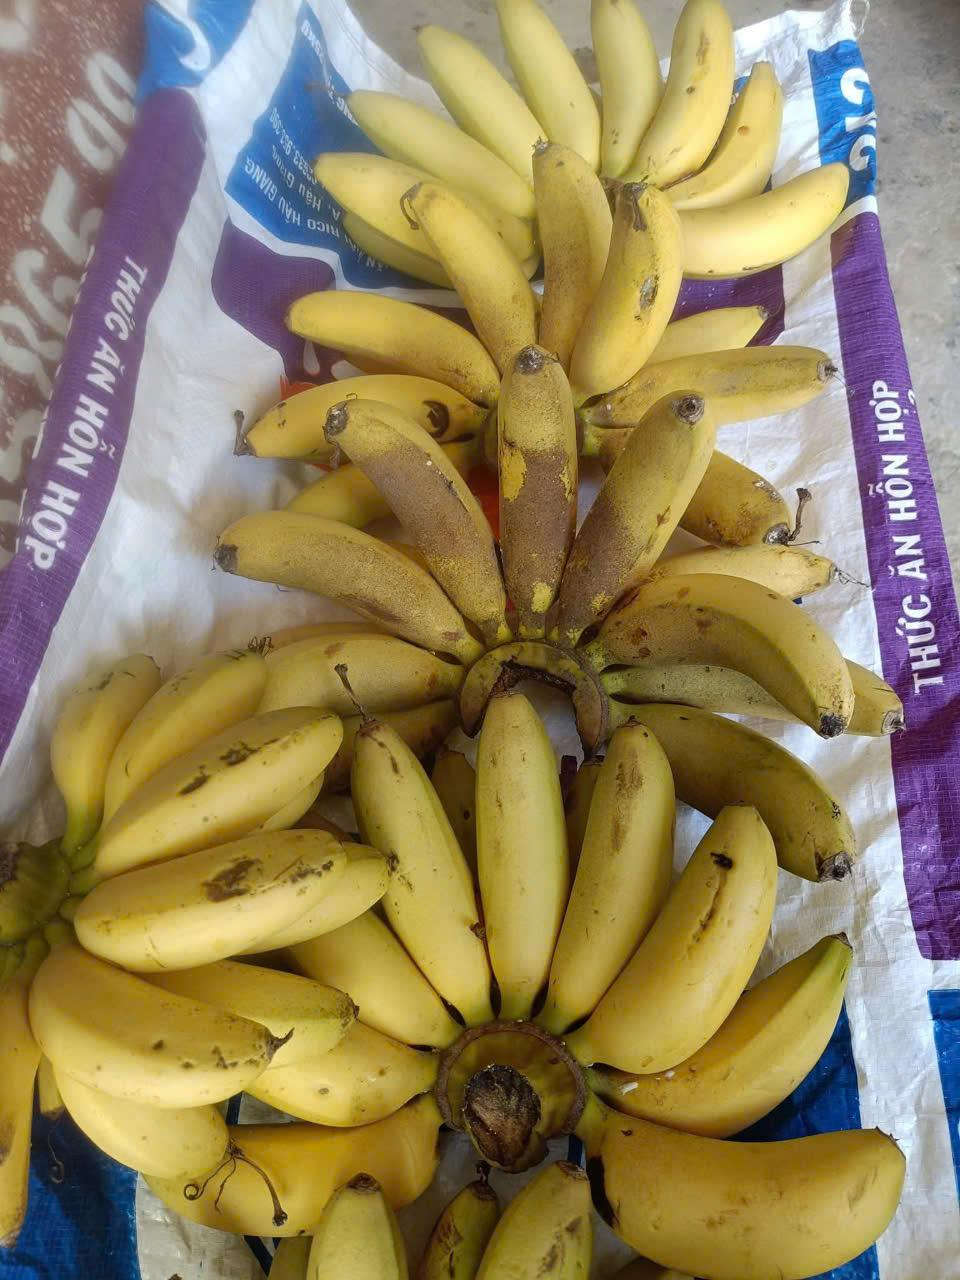banana: (447, 690, 782, 1155), (493, 353, 850, 718), (12, 647, 347, 967), (403, 130, 727, 400), (197, 398, 475, 683)
